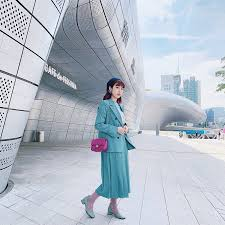people: (81, 79, 132, 221)
